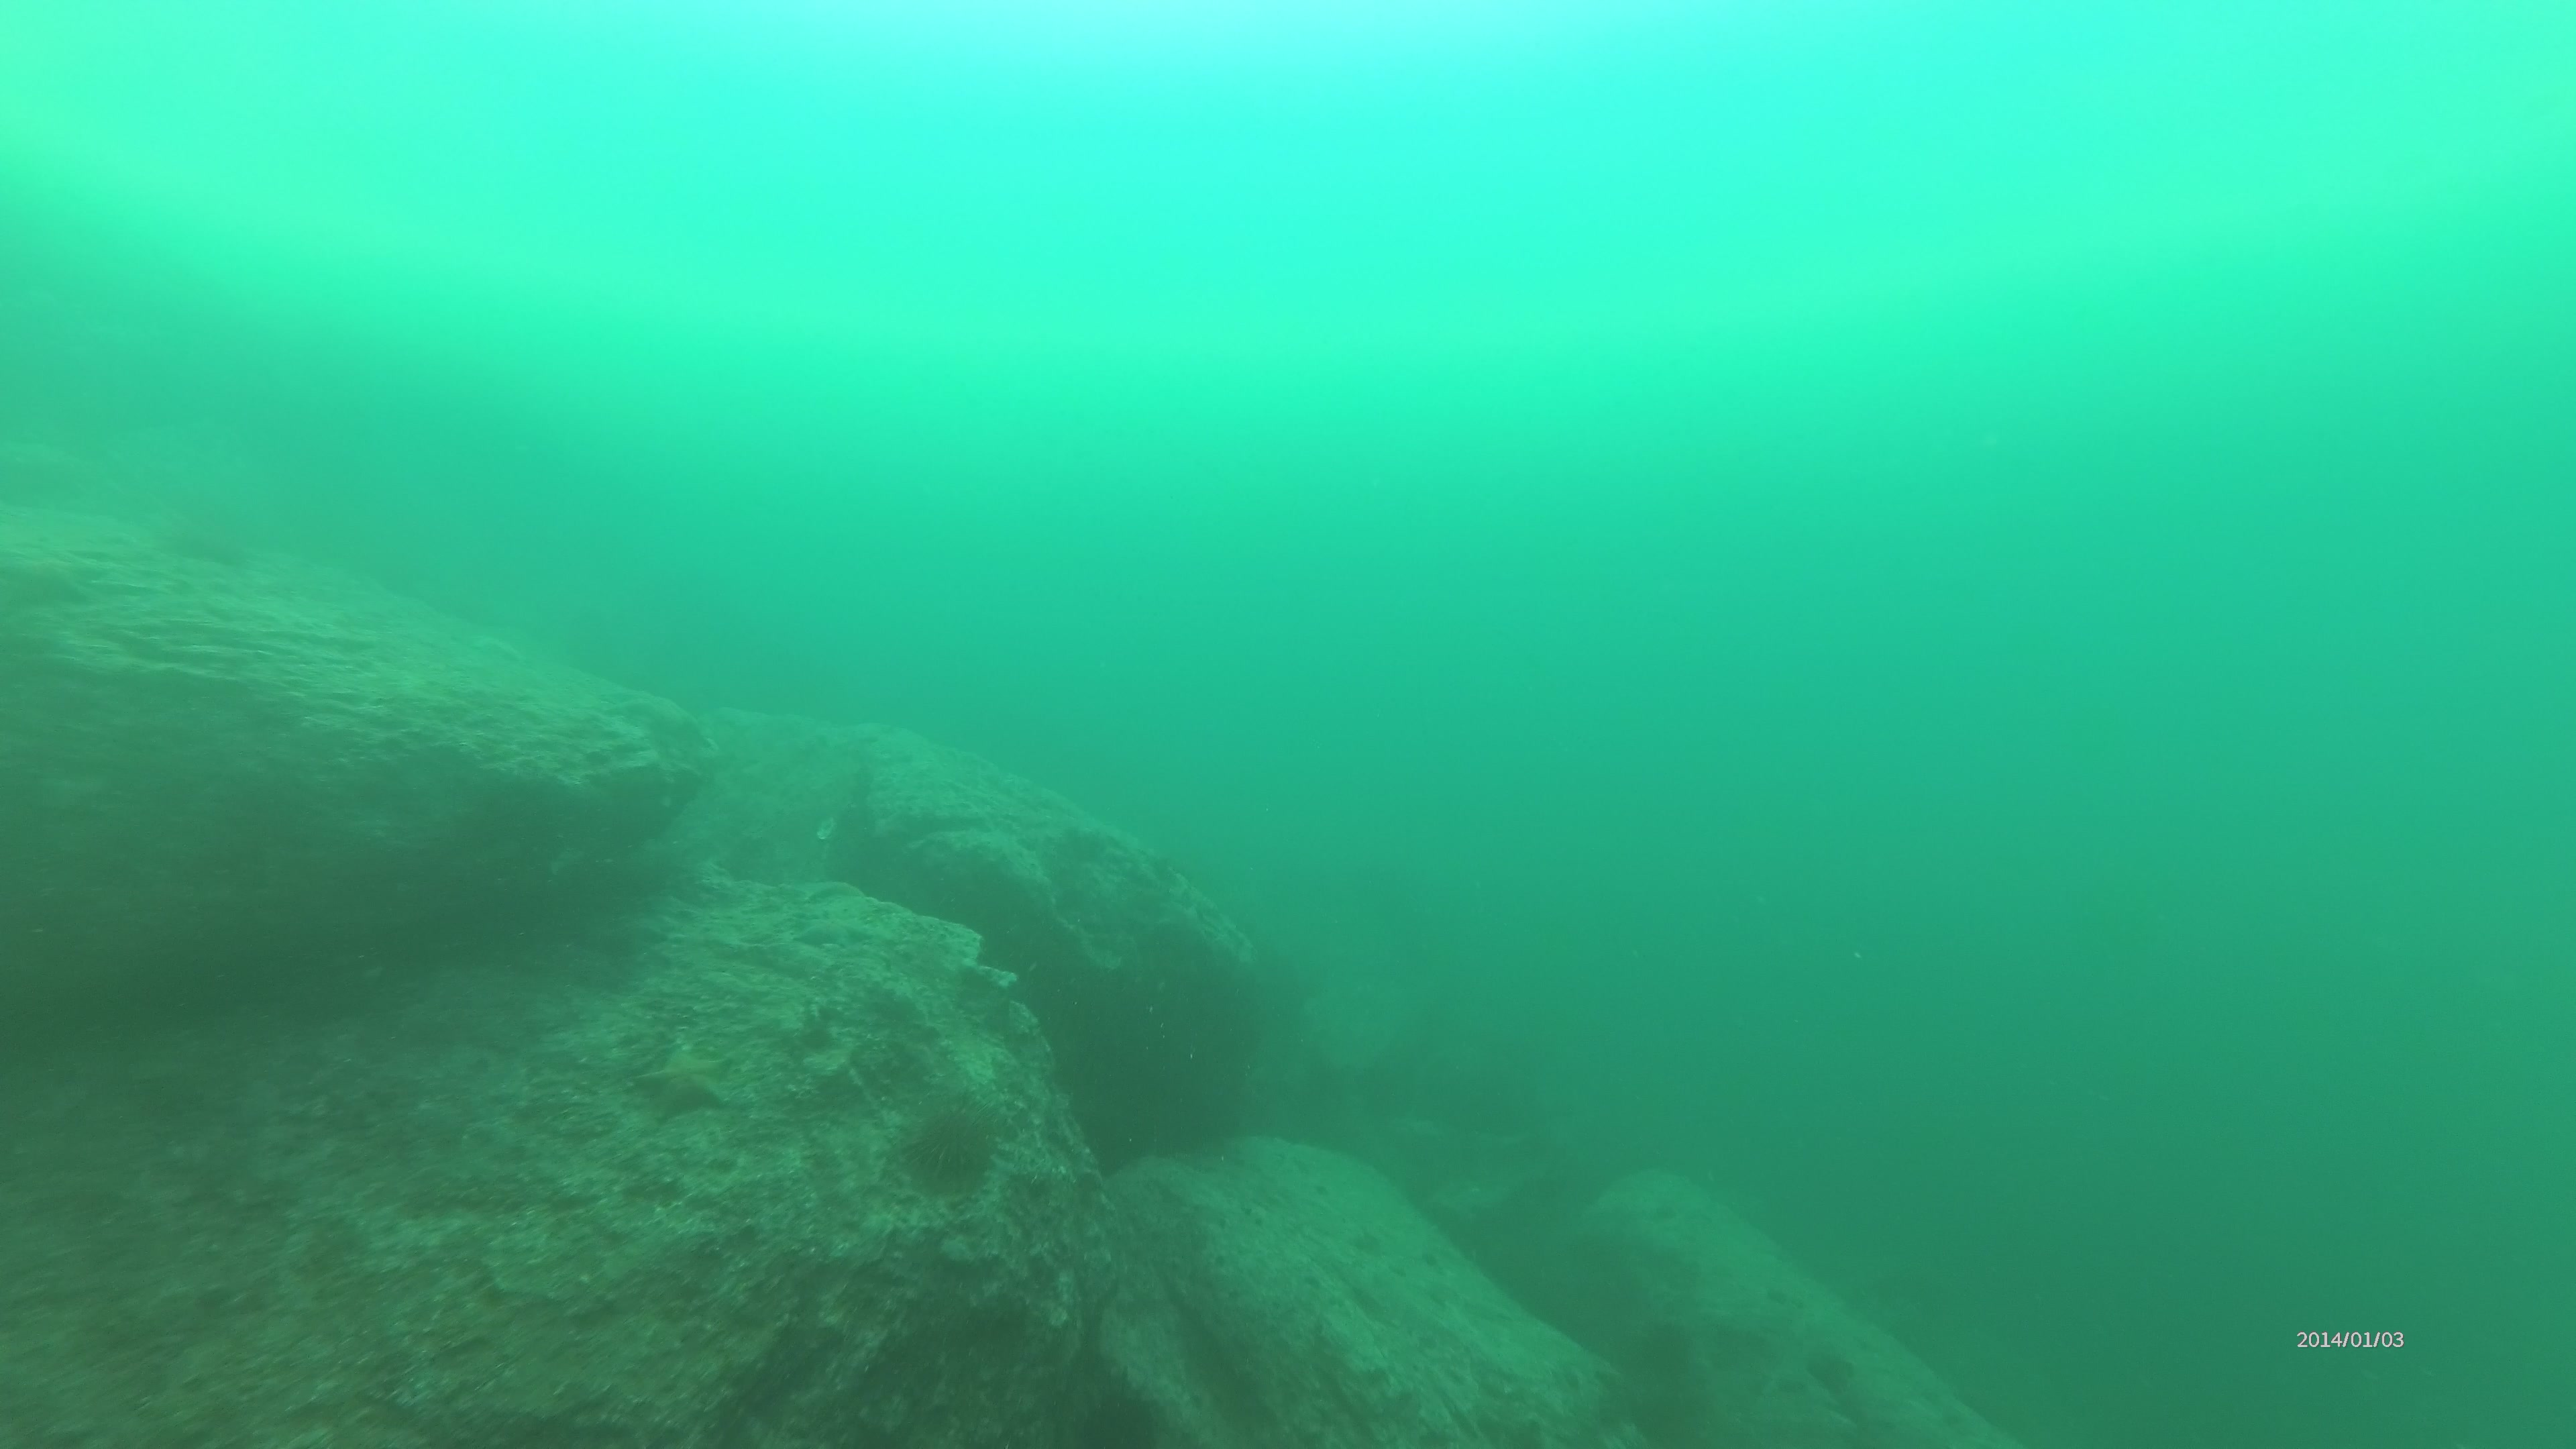echinus: (908, 1097, 1003, 1201)
starfish: (623, 1035, 740, 1120)
